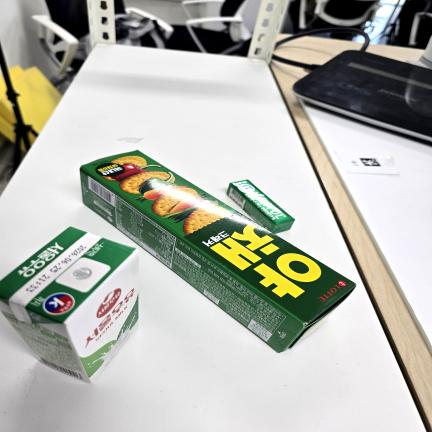cracker_vege: (80, 150, 356, 352)
gum_green: (227, 180, 295, 233)
milk_green: (0, 227, 139, 382)
